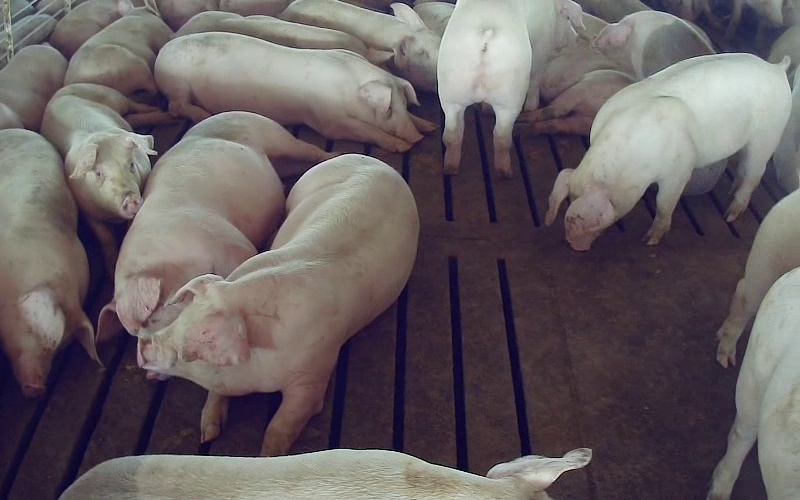pig: (139, 154, 418, 455), (546, 53, 788, 249), (155, 32, 434, 152), (60, 448, 591, 499), (41, 83, 172, 272), (280, 0, 440, 91), (518, 13, 634, 135), (174, 11, 390, 64), (64, 0, 172, 95), (592, 10, 714, 79)
